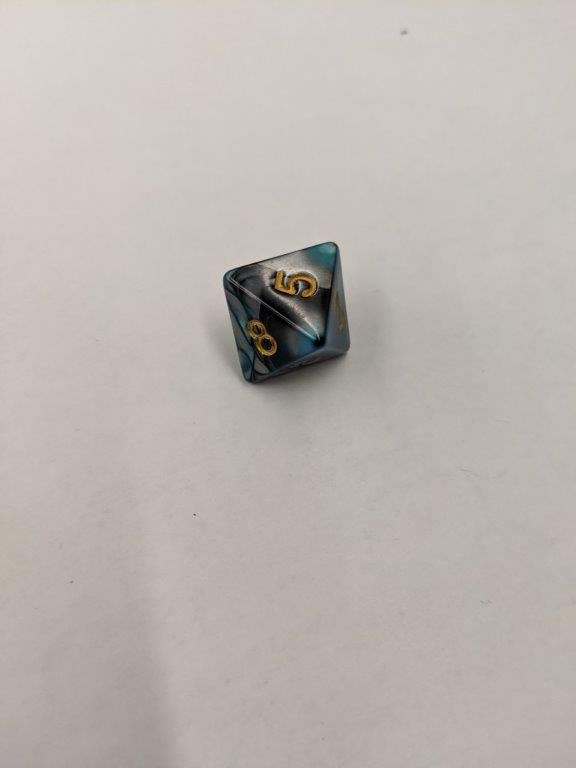d8-5: (217, 241, 353, 387)
